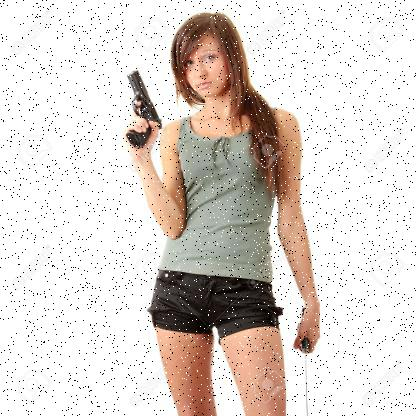pistol: (117, 68, 165, 146)
